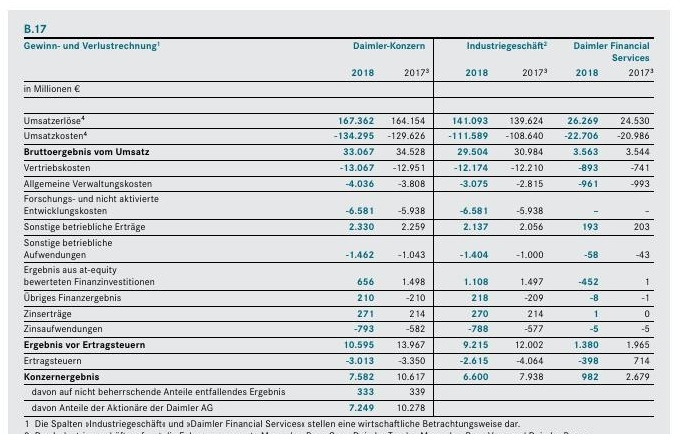table: (0, 0, 680, 434)
